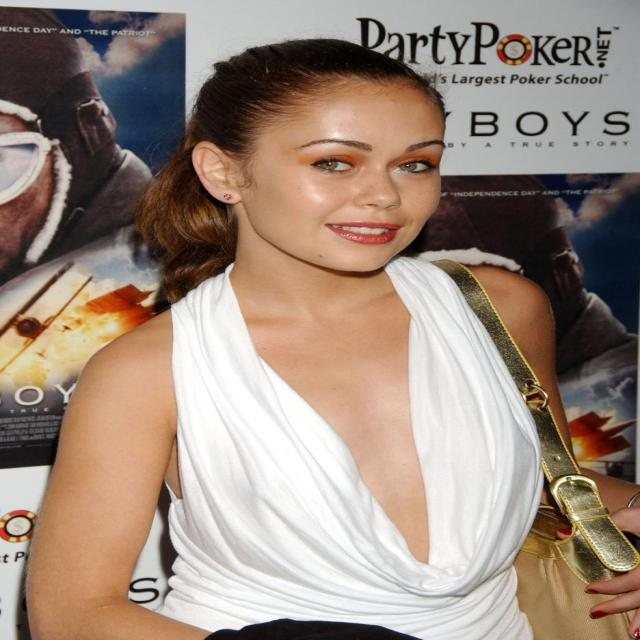no-earmuff: (176, 130, 262, 204)
